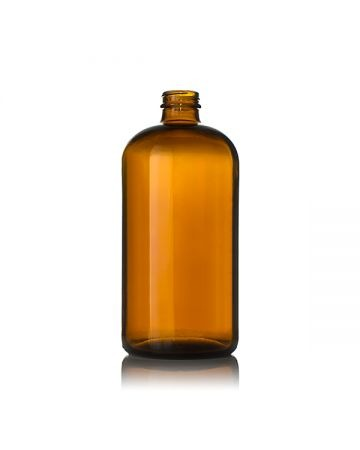container: (115, 87, 245, 365)
